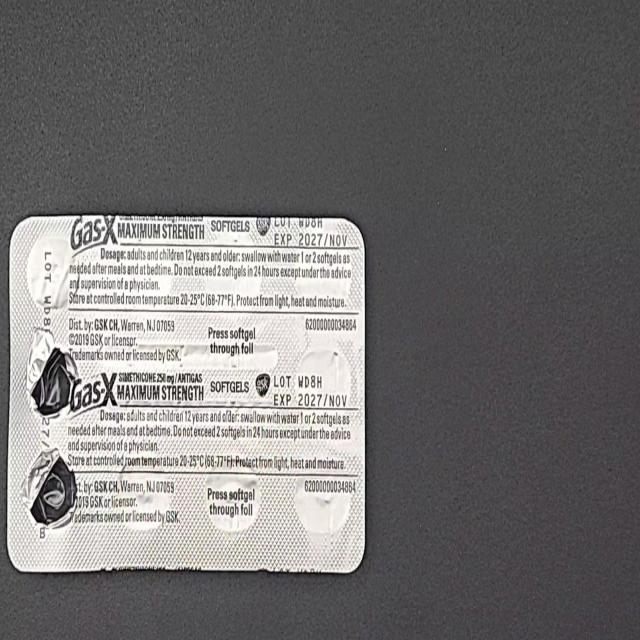defect: (23, 325, 80, 424), (19, 444, 78, 533)
